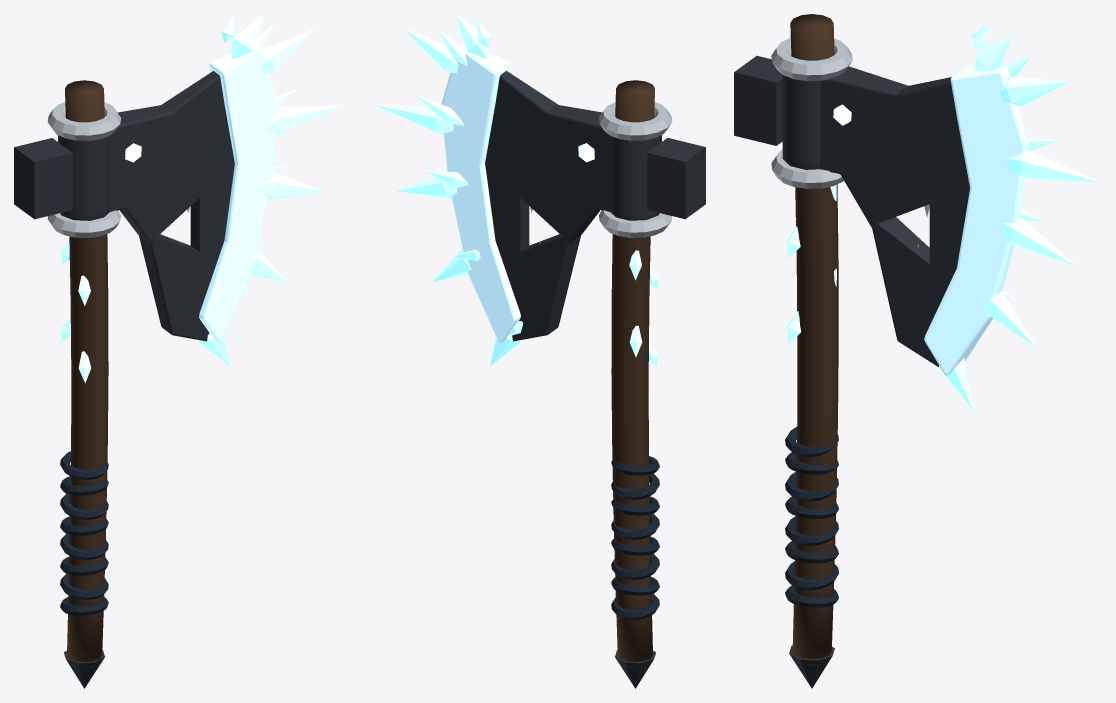
The model's file is rimefang.glb.
The picture shows the model from 3 angles, left to right: view 1: azimuth 30°, elevation 25°; view 2: azimuth 150°, elevation 25°; view 3: azimuth 330°, elevation 25°; orthographic projection. The views are drawn at different scales.
Visible parts, largest first — view 1: AX2_Head, AX2_Haft, AX2_Frost, AX2_Poll, AX2_Socket, AX2_Socket_Top, AX2_Socket_Bot, AX2_Ice1, AX2_Ice2, AX2_Ice0, AX2_Ice5, AX2_Wrap_7 (+9 smaller); view 2: AX2_Head, AX2_Haft, AX2_Frost, AX2_Poll, AX2_Socket, AX2_Socket_Top, AX2_Socket_Bot, AX2_Ice1, AX2_Ice0, AX2_Ice2, AX2_Ice5, AX2_Cap (+9 smaller); view 3: AX2_Head, AX2_Haft, AX2_Frost, AX2_Poll, AX2_Socket, AX2_Socket_Top, AX2_Ice1, AX2_Socket_Bot, AX2_Ice2, AX2_Ice0, AX2_Ice3, AX2_Ice5 (+10 smaller).
Part boxes in pixels (left/top/right/bottom): AX2_Head: left=109, top=71, right=234, bottom=341; AX2_Haft: left=65, top=80, right=108, bottom=667; AX2_Frost: left=199, top=42, right=278, bottom=343; AX2_Poll: left=14, top=138, right=72, bottom=219; AX2_Socket: left=58, top=135, right=109, bottom=220; AX2_Socket_Top: left=47, top=102, right=120, bottom=140; AX2_Socket_Bot: left=47, top=210, right=121, bottom=237; AX2_Ice1: left=266, top=105, right=344, bottom=134; AX2_Ice2: left=262, top=172, right=323, bottom=199; AX2_Ice0: left=261, top=28, right=316, bottom=73; AX2_Ice5: left=231, top=14, right=263, bottom=58; AX2_Wrap_7: left=60, top=451, right=108, bottom=479; AX2_Head: left=485, top=71, right=610, bottom=341; AX2_Haft: left=611, top=80, right=654, bottom=667; AX2_Frost: left=441, top=42, right=520, bottom=343; AX2_Poll: left=647, top=138, right=705, bottom=219; AX2_Socket: left=610, top=135, right=661, bottom=220; AX2_Socket_Top: left=599, top=102, right=672, bottom=140; AX2_Socket_Bot: left=599, top=210, right=672, bottom=237; AX2_Ice1: left=374, top=104, right=453, bottom=134; AX2_Ice0: left=404, top=28, right=458, bottom=73; AX2_Ice2: left=396, top=176, right=457, bottom=199; AX2_Ice5: left=456, top=14, right=488, bottom=58; AX2_Cap: left=615, top=650, right=655, bottom=688; AX2_Head: left=820, top=66, right=969, bottom=366; AX2_Haft: left=790, top=14, right=838, bottom=665; AX2_Frost: left=924, top=65, right=1027, bottom=375; AX2_Poll: left=734, top=55, right=782, bottom=145; AX2_Socket: left=782, top=75, right=820, bottom=169; AX2_Socket_Top: left=771, top=38, right=852, bottom=81; AX2_Ice1: left=1007, top=149, right=1101, bottom=182; AX2_Socket_Bot: left=771, top=149, right=843, bottom=188; AX2_Ice2: left=1002, top=218, right=1077, bottom=266; AX2_Ice0: left=1000, top=76, right=1068, bottom=106; AX2_Ice3: left=983, top=291, right=1036, bottom=347; AX2_Ice5: left=975, top=38, right=1011, bottom=70.
Bounding box in the file's own units: 0.5885 × 1.11 × 0.1176.
